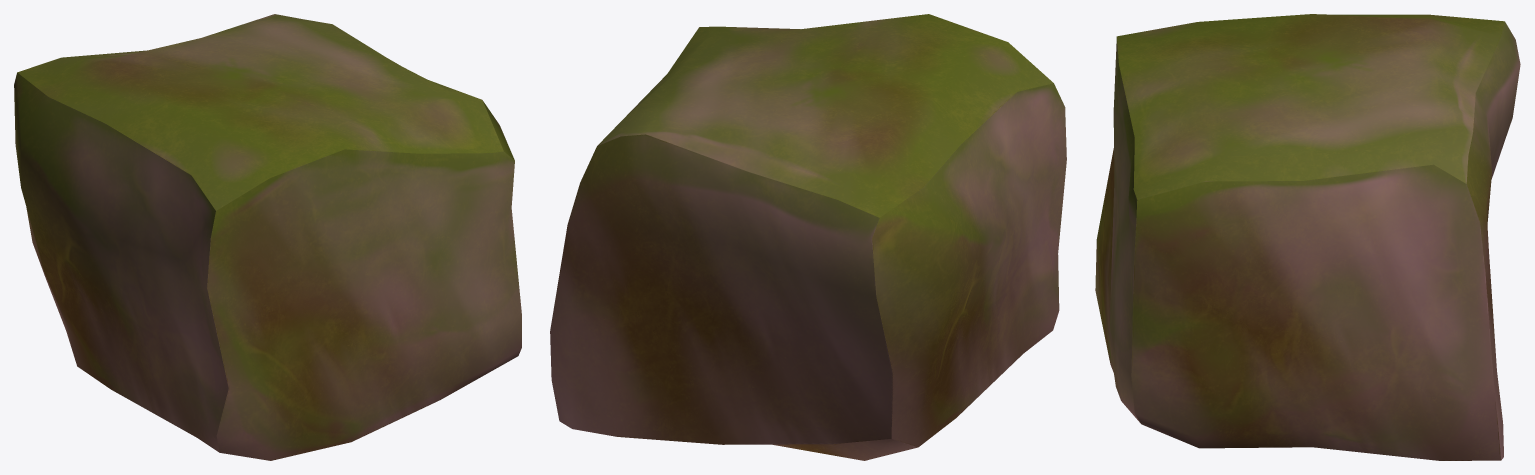
Rendered from rock.fbx.
The picture shows the model from 3 angles, left to right: view 1: azimuth 30°, elevation 25°; view 2: azimuth 150°, elevation 25°; view 3: azimuth 270°, elevation 25°; orthographic projection. The views are drawn at different scales.
Visible parts, largest first — view 1: cubicRock_low; view 2: cubicRock_low; view 3: cubicRock_low.
Boxes of the visible parts, x1,y1,x2,y2 form: cubicRock_low: [14, 14, 521, 460]; cubicRock_low: [550, 14, 1066, 460]; cubicRock_low: [1095, 14, 1520, 460].
Size of the model in its own units: 111 by 88.34 by 106.
Materials: 1 (1 with a texture image).
